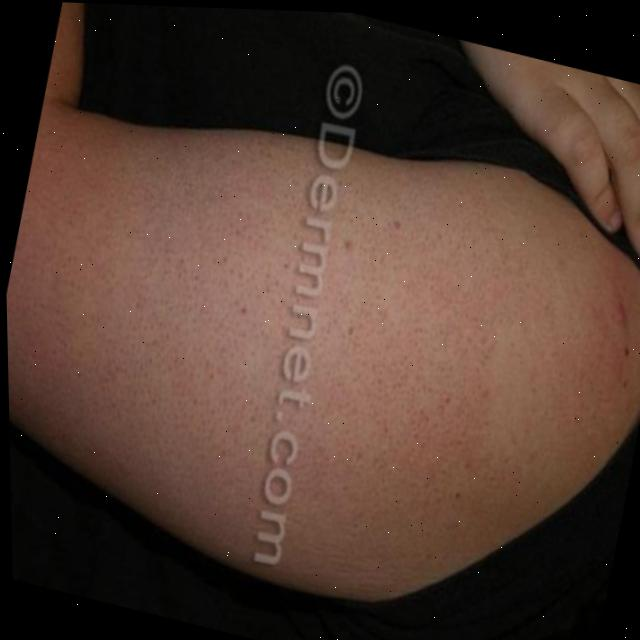Eczema: (72, 183, 546, 546)
